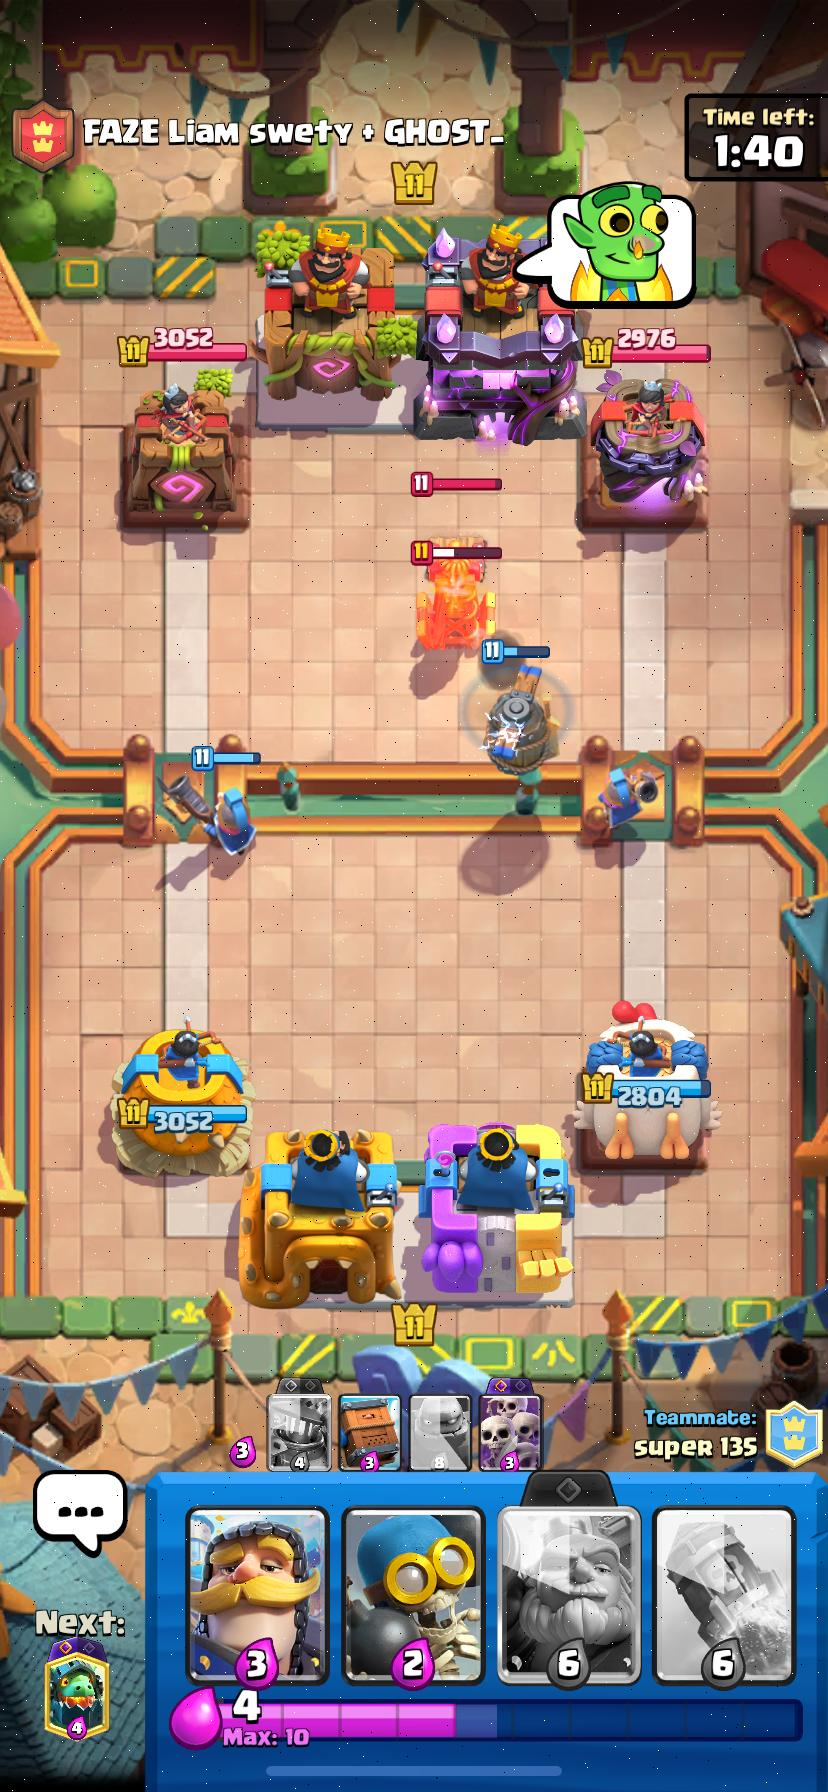EKingTower: (414, 225, 586, 445), (264, 225, 415, 401)
ETesla: (416, 559, 496, 649)
EnemyPrincessTower: (582, 379, 707, 528), (122, 387, 248, 528)
OFlyingMachine: (483, 663, 559, 775)
OMuskNew: (164, 771, 255, 855), (599, 766, 640, 827), (640, 773, 654, 795)
OwnKingTower: (240, 1129, 403, 1306), (419, 1123, 573, 1301)
OwnPrincessTower: (576, 1002, 711, 1167), (111, 1022, 253, 1175)
